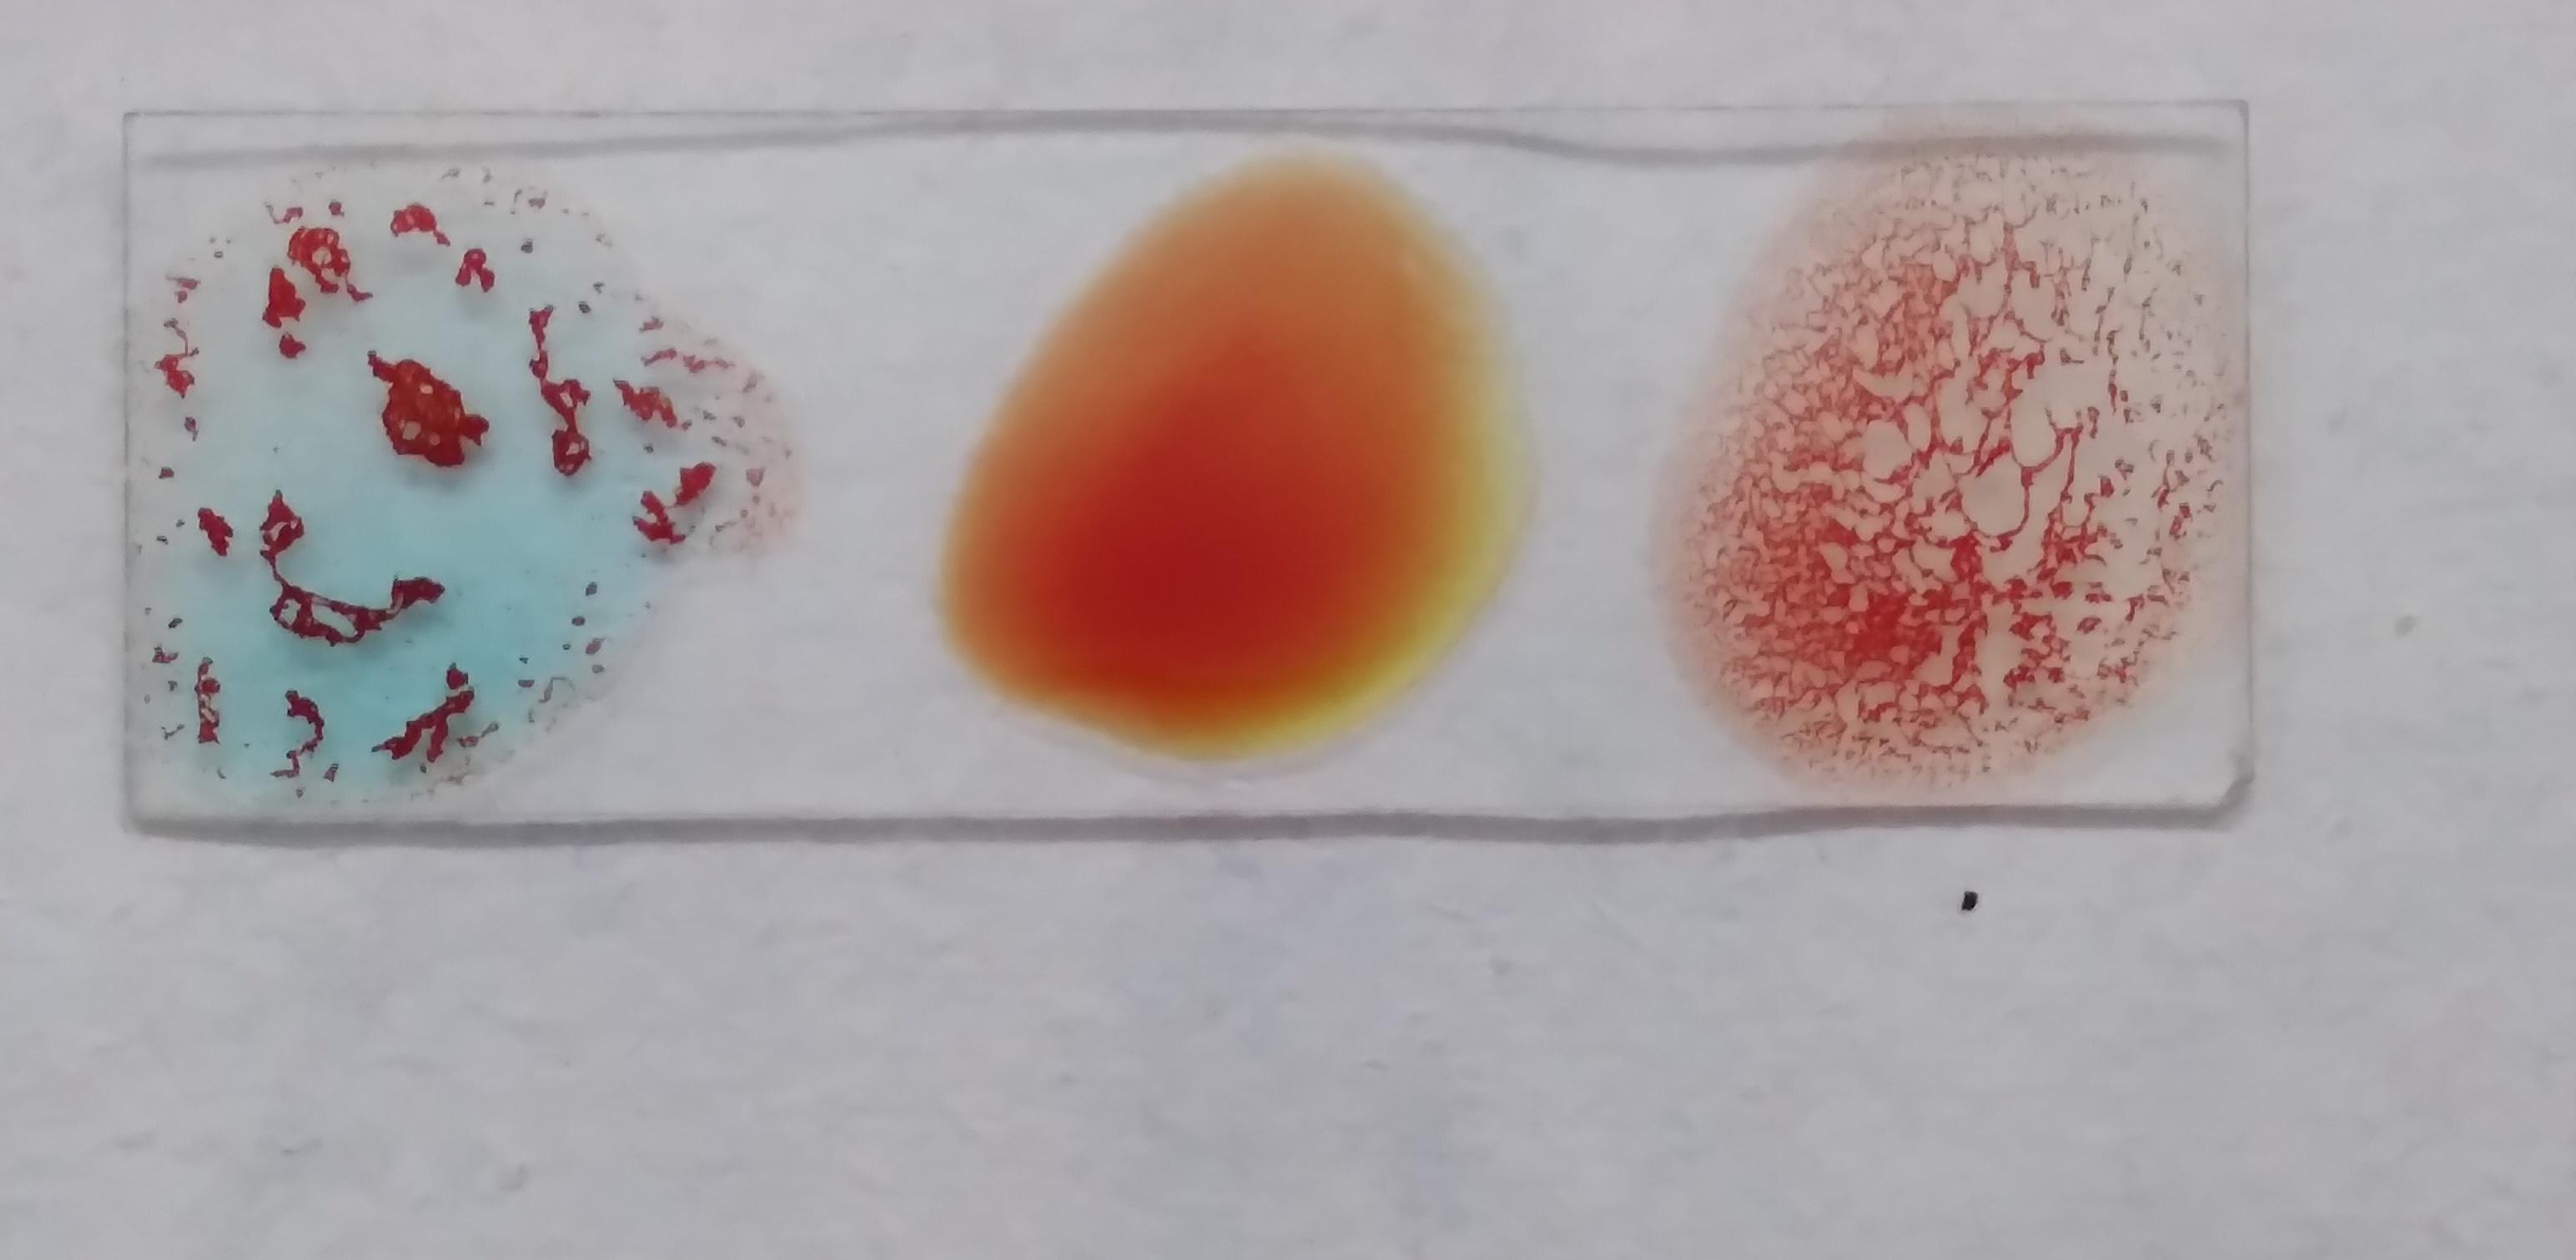A: (135, 189, 675, 780)
D: (1725, 164, 2215, 782)
